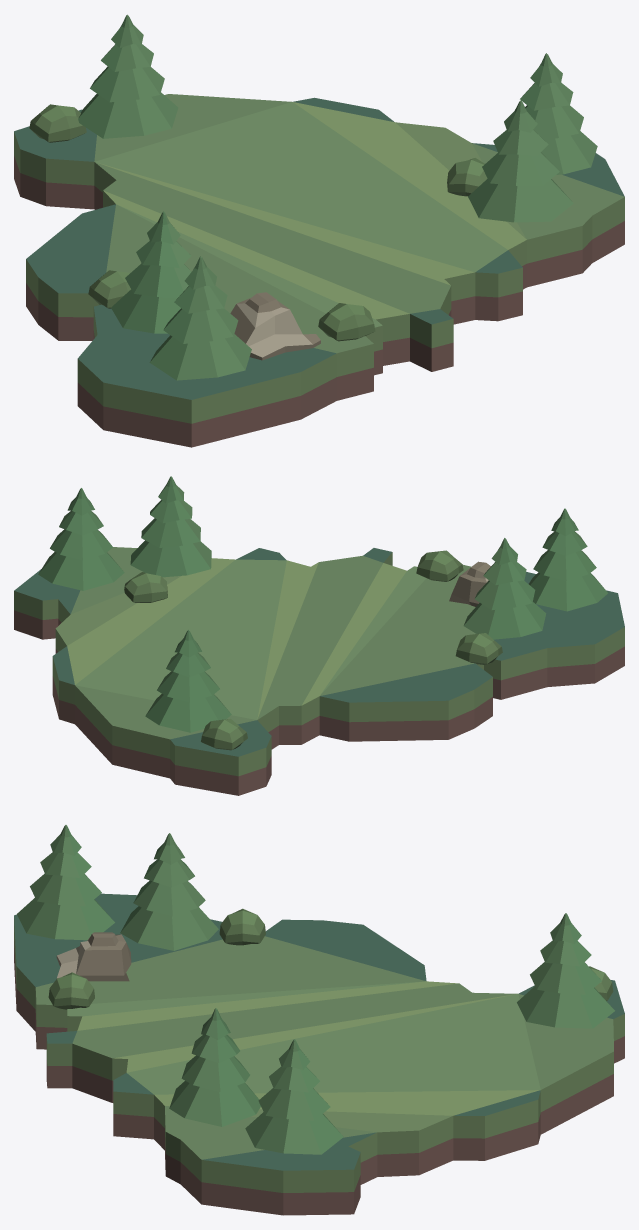
The model's file is sangar.gltf.
The picture shows the model from 3 angles, top to bottom: view 1: azimuth 30°, elevation 25°; view 2: azimuth 150°, elevation 25°; view 3: azimuth 270°, elevation 25°; orthographic projection. The views are drawn at different scales.
Parts seen in each view (by area): view 1: сангар; view 2: сангар; view 3: сангар.
Boxes of the visible parts, x1,y1,x2,y2 form: сангар: [14, 14, 624, 447]; сангар: [14, 476, 624, 795]; сангар: [14, 825, 624, 1215].
Bounding box in the file's own units: 2.08 × 0.5325 × 1.93.
